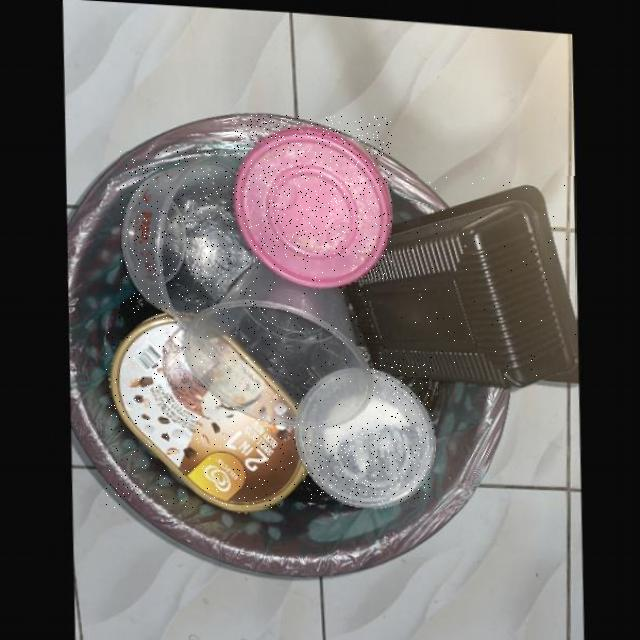plastic: (339, 177, 576, 381), (106, 310, 303, 508), (183, 257, 371, 424), (232, 116, 392, 279), (120, 151, 257, 328), (291, 358, 433, 502)
